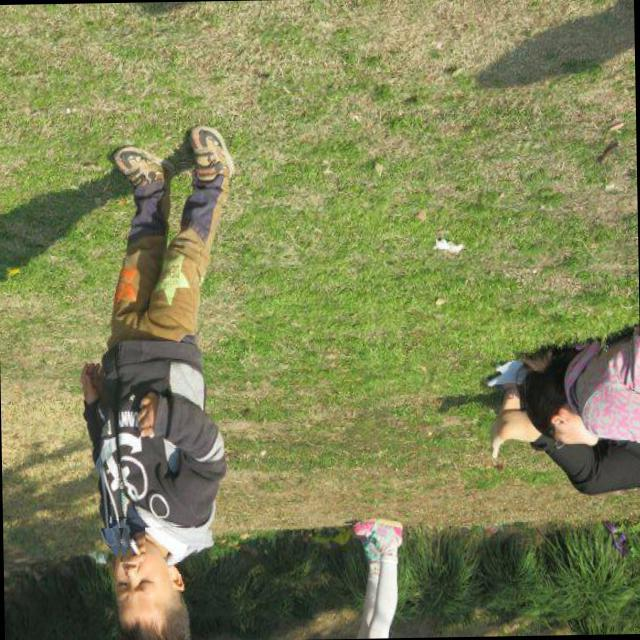cigarette: (120, 524, 146, 562)
